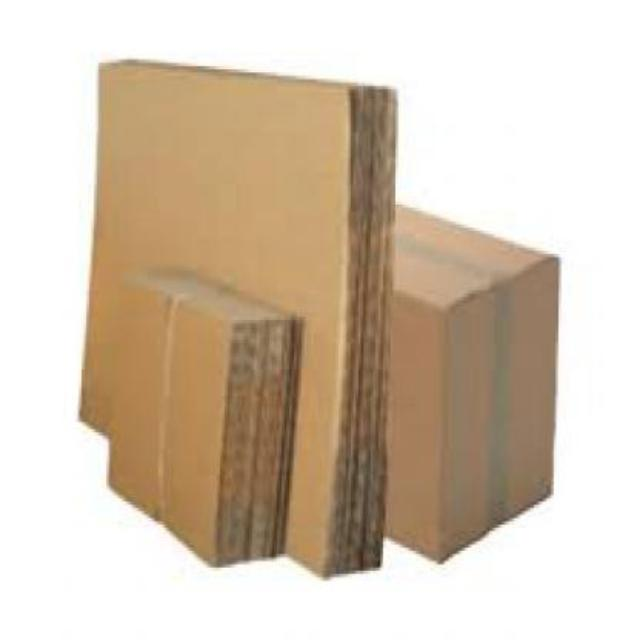cardboard_box: (88, 58, 402, 580), (320, 206, 556, 562), (105, 282, 295, 564)
